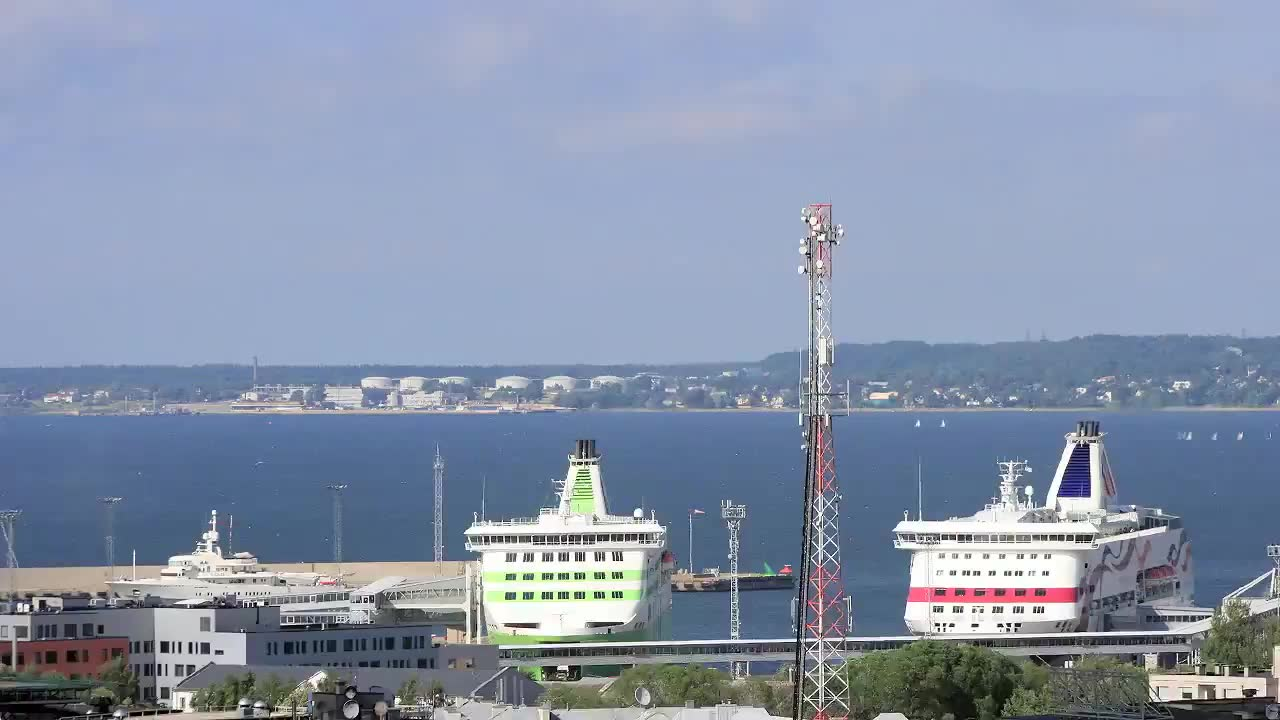type-3: (868, 415, 1225, 638), (436, 434, 694, 670), (85, 513, 367, 629)
